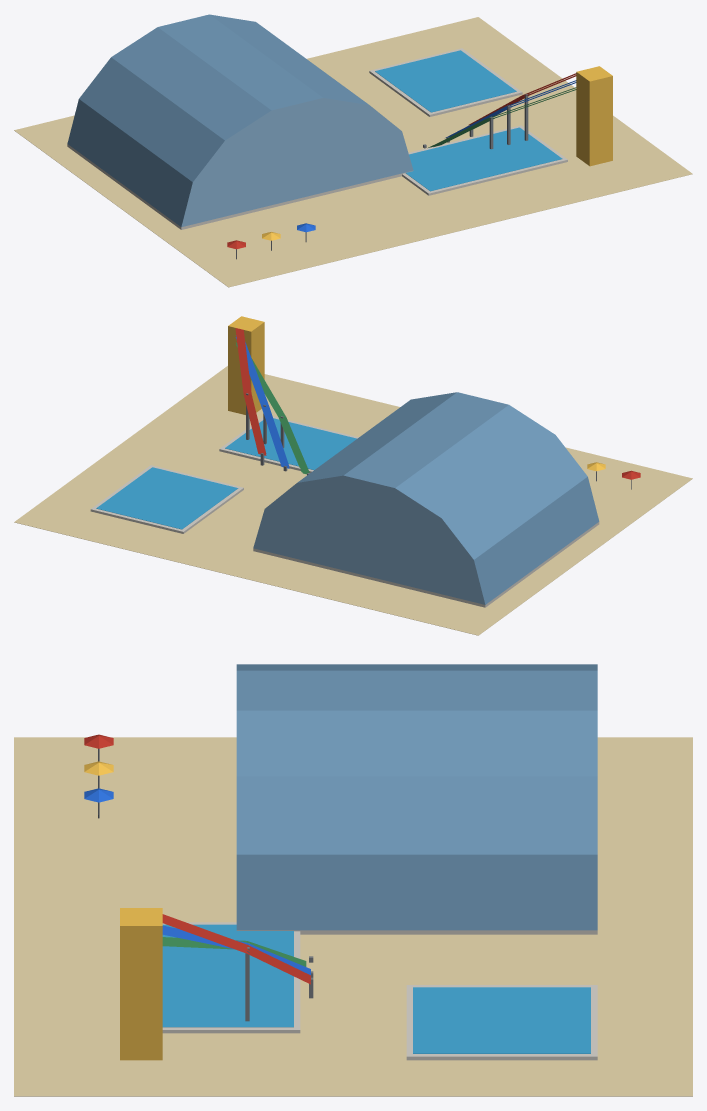
Rendered from parc_aquatique.glb.
The picture shows the model from 3 angles, top to bottom: view 1: azimuth 30°, elevation 25°; view 2: azimuth 150°, elevation 25°; view 3: azimuth 270°, elevation 25°; orthographic projection. The views are drawn at different scales.
Visible parts, largest first — view 1: parc_aquatique; view 2: parc_aquatique; view 3: parc_aquatique.
Boxes of the visible parts, <box> form: parc_aquatique: <box>14,14,692,287</box>; parc_aquatique: <box>14,316,692,635</box>; parc_aquatique: <box>14,664,692,1096</box>.
Size of the model in its own units: 80 by 16.8 by 64.
1 material, 1 textured.
